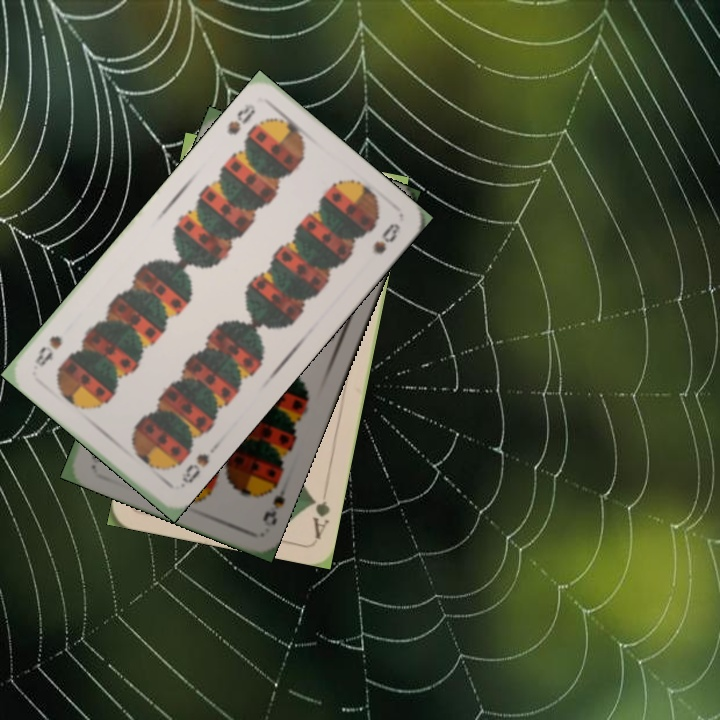GA: (307, 491, 333, 541)
S8: (176, 449, 212, 491), (222, 101, 259, 138)
S9: (258, 474, 288, 528)
